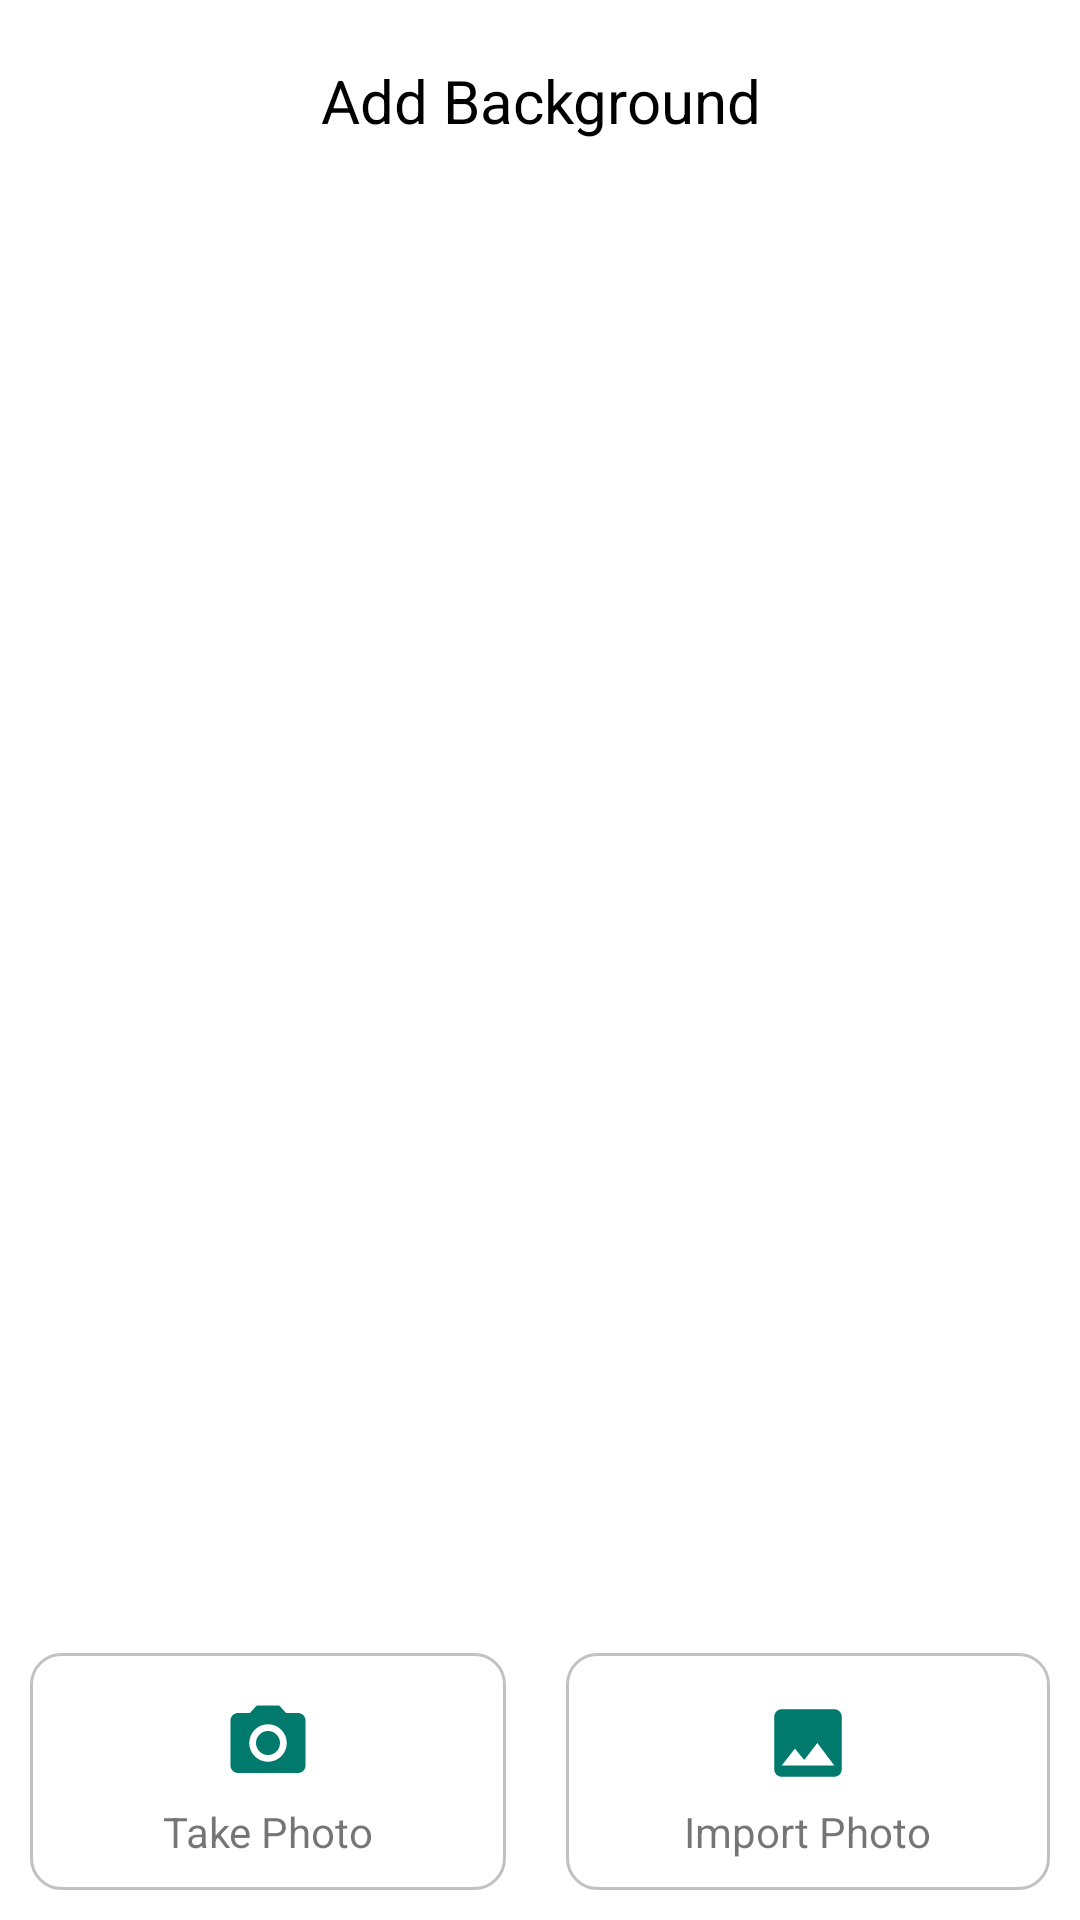

Where to tap for icons on this 1080w x 1920h app screen, as (x,y):
camera: (268,1739)
gallery: (808,1743)
